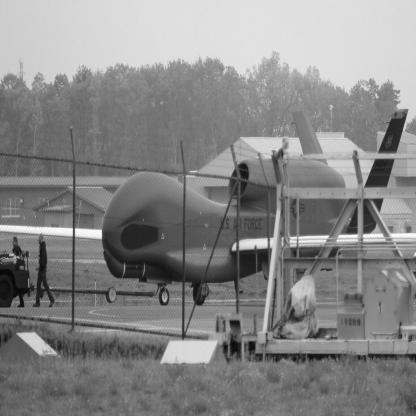RQ4: (1, 110, 416, 308)
